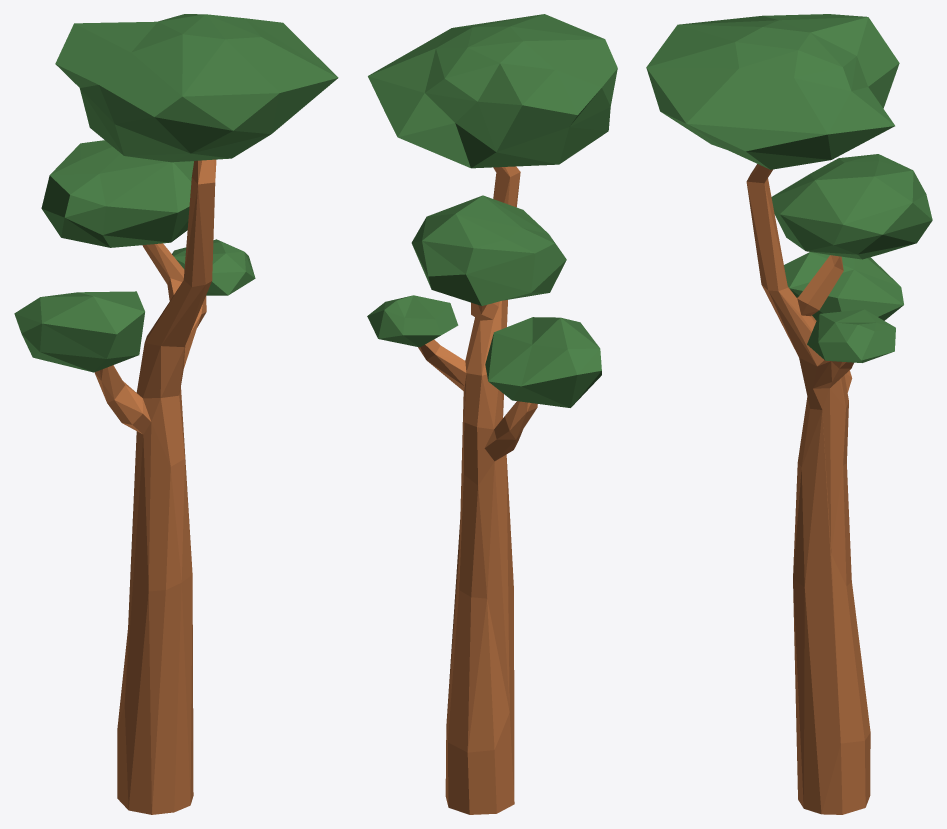
Rendered from tree04.gltf.
3 renders of one model, left to right at view 1: azimuth 30°, elevation 25°; view 2: azimuth 150°, elevation 25°; view 3: azimuth 270°, elevation 25°, orthographic. The views are drawn at different scales.
Visible parts, largest first — view 1: Cylinder; view 2: Cylinder; view 3: Cylinder.
Boxes of the visible parts, left/top/right/bottom form: Cylinder: left=14, top=14, right=338, bottom=814; Cylinder: left=367, top=14, right=617, bottom=814; Cylinder: left=646, top=14, right=932, bottom=814.
Size of the model in its own units: 1.2 by 3.52 by 1.19.
Materials: 1 (1 with a texture image).
